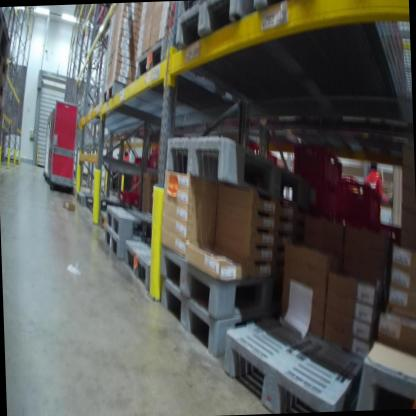pallet: (175, 0, 323, 125), (218, 309, 366, 413), (157, 239, 287, 337), (162, 128, 302, 215), (132, 29, 257, 123), (171, 0, 264, 124), (158, 274, 262, 380), (352, 0, 405, 118), (349, 332, 416, 406), (99, 78, 174, 134), (104, 202, 163, 249), (122, 233, 164, 292), (103, 221, 130, 266), (74, 187, 118, 208), (0, 10, 14, 61)
